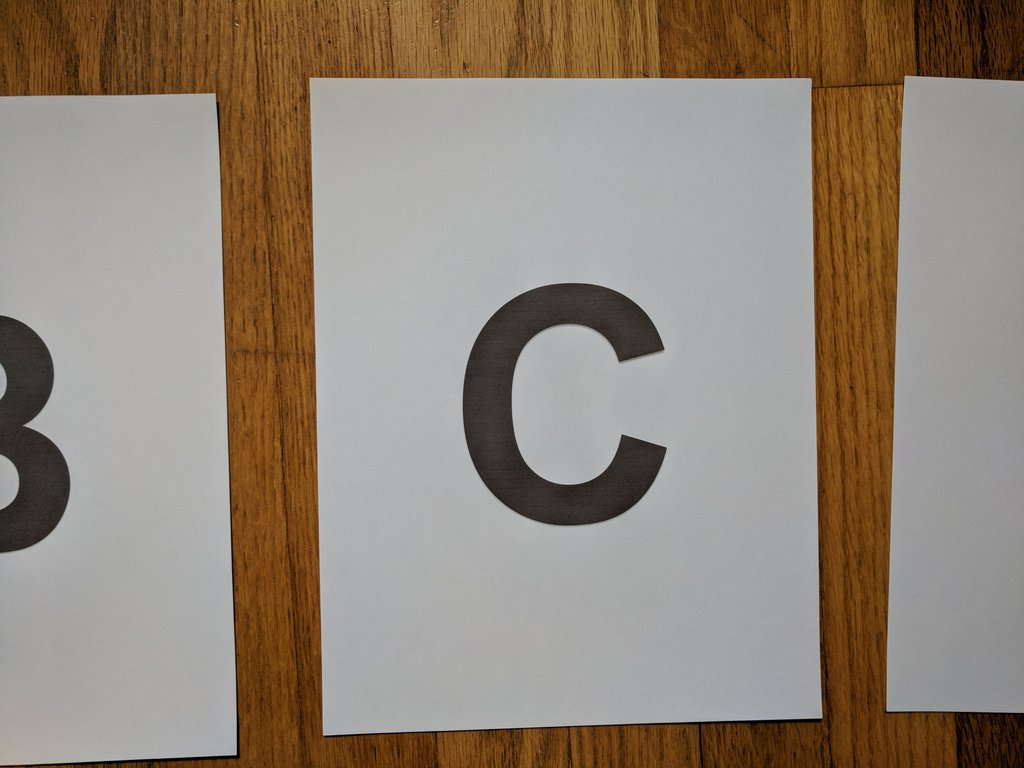home: (462, 281, 670, 528)
